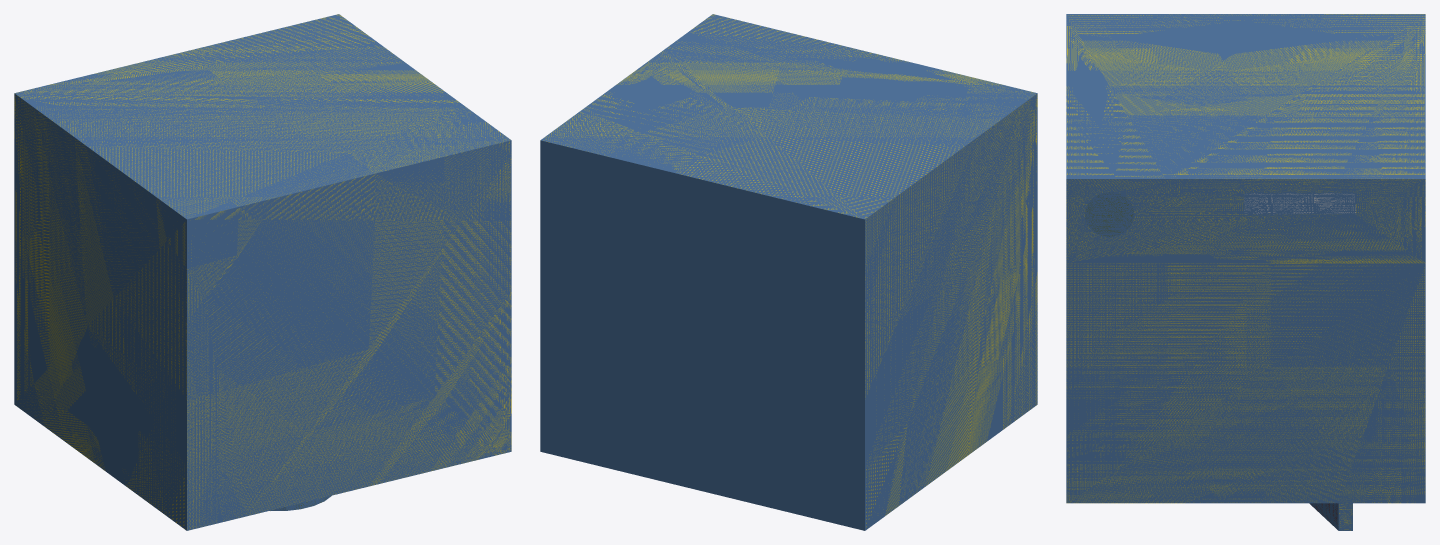
3 renders of one model, left to right at view 1: azimuth 30°, elevation 25°; view 2: azimuth 150°, elevation 25°; view 3: azimuth 270°, elevation 25°, orthographic. The views are drawn at different scales.
Visible parts, largest first — view 1: mesh1_mesh1-geometry; view 2: mesh1_mesh1-geometry; view 3: mesh1_mesh1-geometry.
Boxes of the visible parts, left/top/right/bottom form: mesh1_mesh1-geometry: left=14, top=14, right=511, bottom=530; mesh1_mesh1-geometry: left=540, top=14, right=1037, bottom=530; mesh1_mesh1-geometry: left=1066, top=14, right=1425, bottom=530.
Size of the model in its own units: 0.5802 by 0.6148 by 0.5341.
